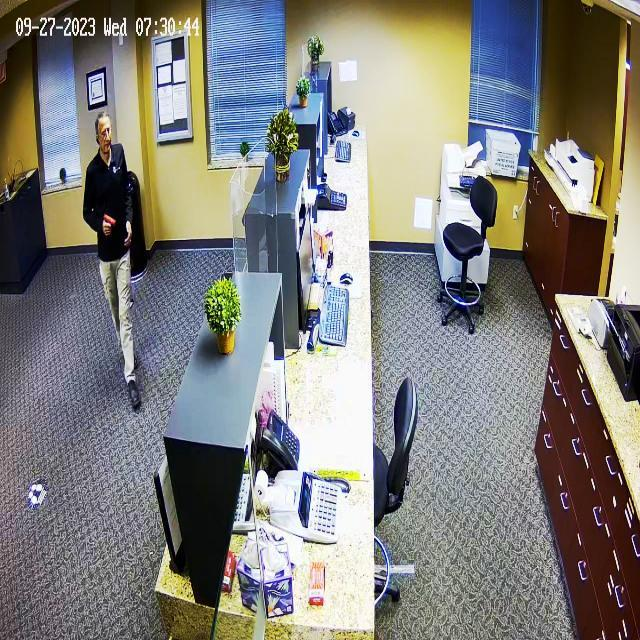Gun: (94, 208, 138, 244)
